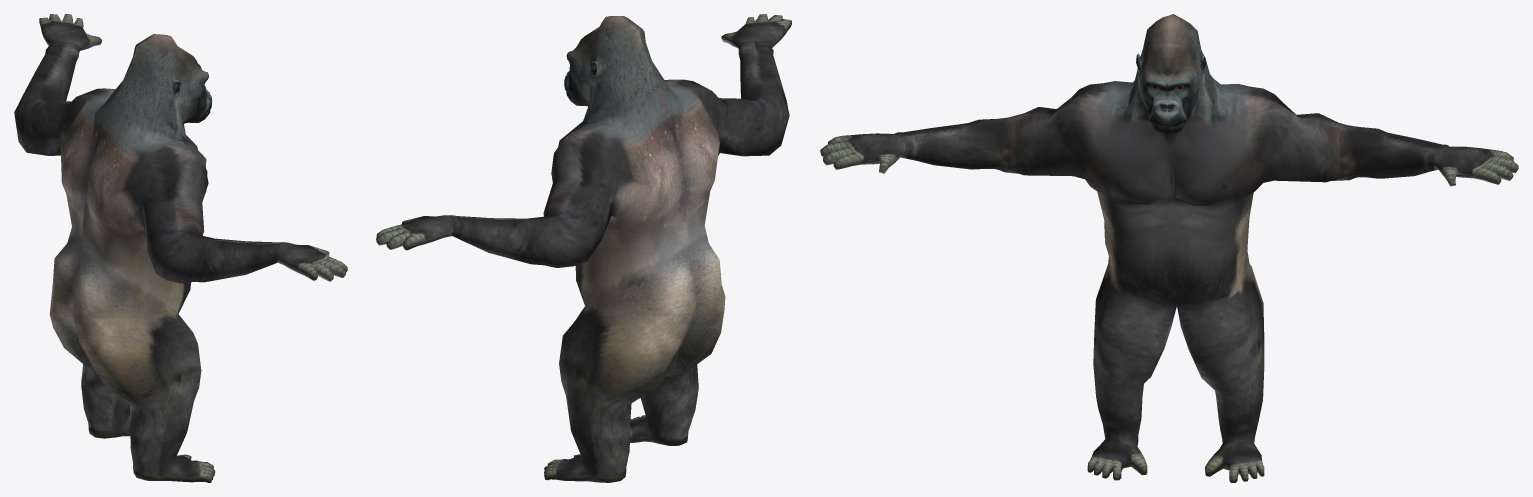
File: flying_gorilla-_C-zwmmK.glb
3 views of the same model, side by side, from view 1: azimuth 30°, elevation 25°; view 2: azimuth 150°, elevation 25°; view 3: azimuth 270°, elevation 25° (orthographic). The views are drawn at different scales.
Visible parts, largest first — view 1: Object_2; view 2: Object_2; view 3: Object_2.
Part boxes in pixels (left/top/right/bottom): Object_2: left=14, top=14, right=347, bottom=482; Object_2: left=376, top=14, right=791, bottom=482; Object_2: left=820, top=14, right=1518, bottom=482.
Bounding box in the file's own units: 2.45 × 5.93 × 8.34.
Materials: 1 (1 with a texture image).
